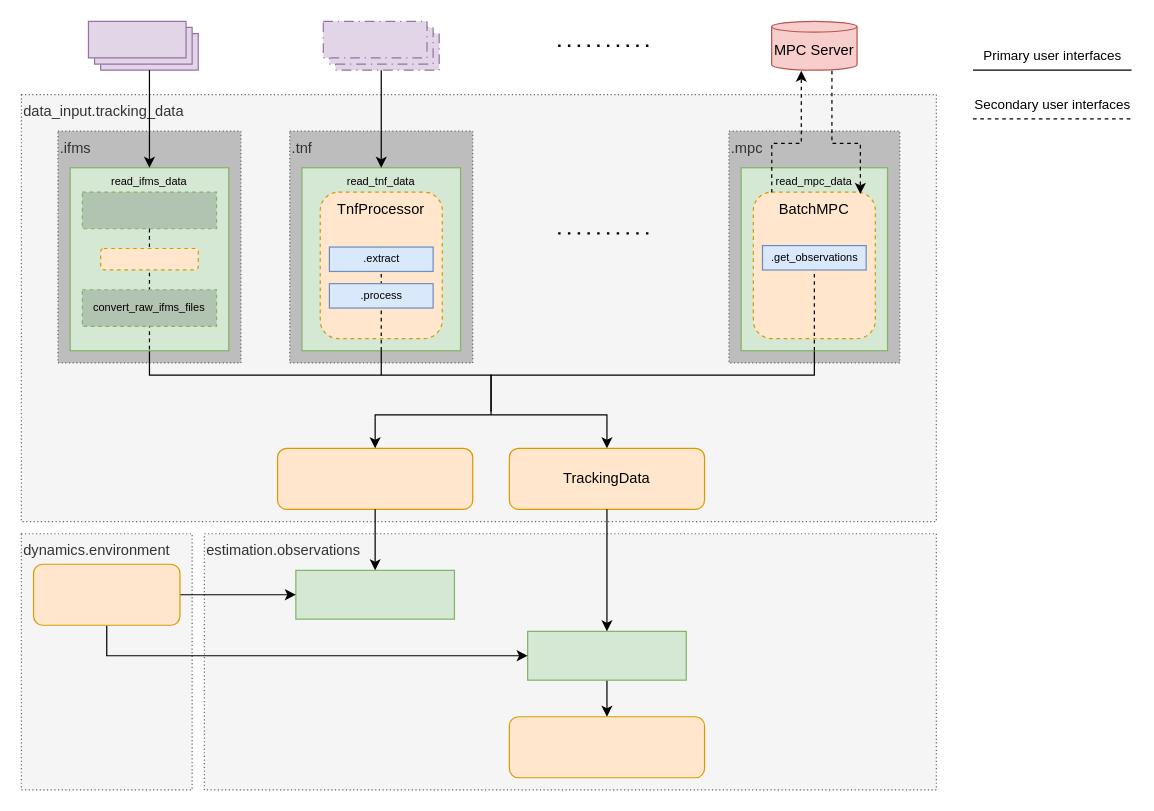
The diagram is 1154 pixels wide and 811 high, and some of its shapes have lost their labels. The shapes that lost their labels are listed below. From the top down, each one's centre as x and y in pixels, then its label:
At (142,45): "IFMS".
At (380,45): "TNF".
At (149,210): "read_ifms_file".
At (148,258): "TrackingTxT".
At (374,478): "TrackingSupplementaryData".
At (106,594): "SystemOfBodies".
At (374,594): "set_tracking_supplementary_\ data_in_bodies".
At (606,655): "create_observation_collection".
At (606,747): "ObservationCollection".
